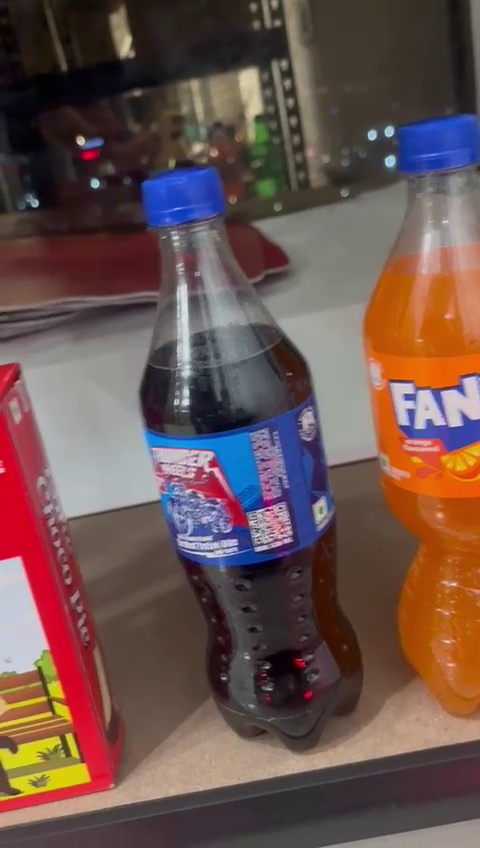Thums-up: (131, 159, 365, 775)
